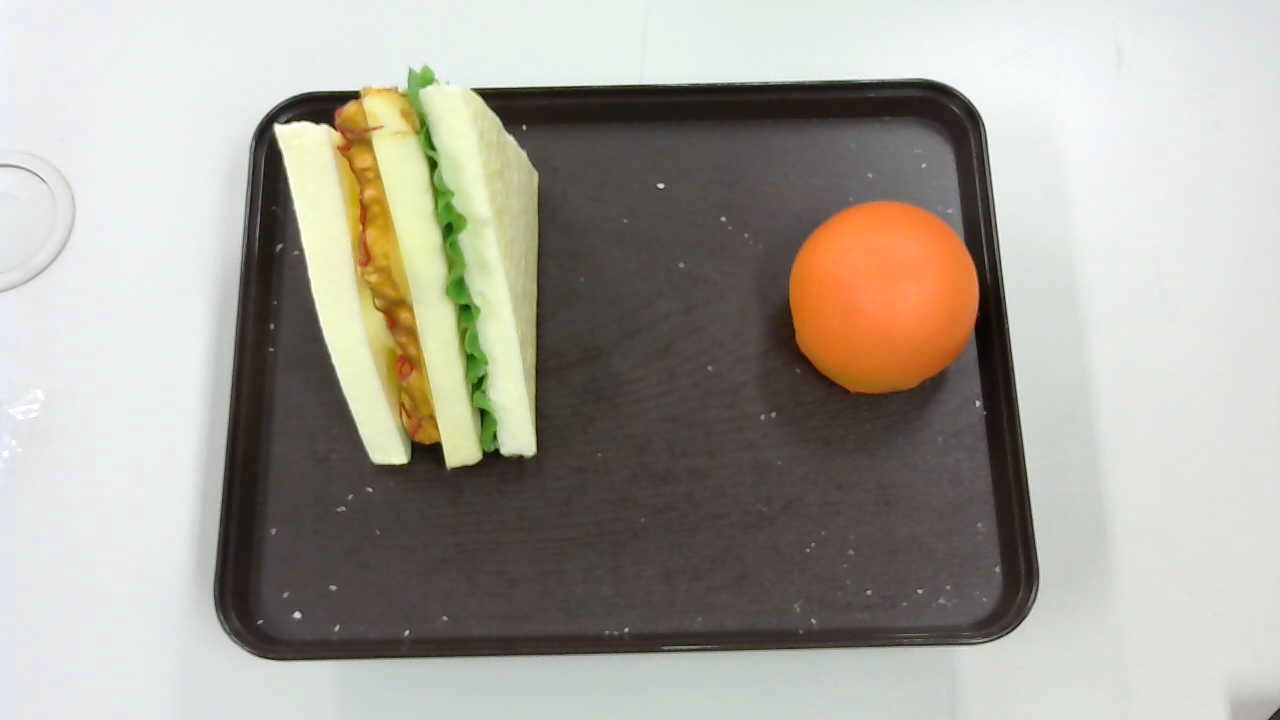bun: (788, 200, 980, 394)
sandwich: (274, 67, 540, 468)
